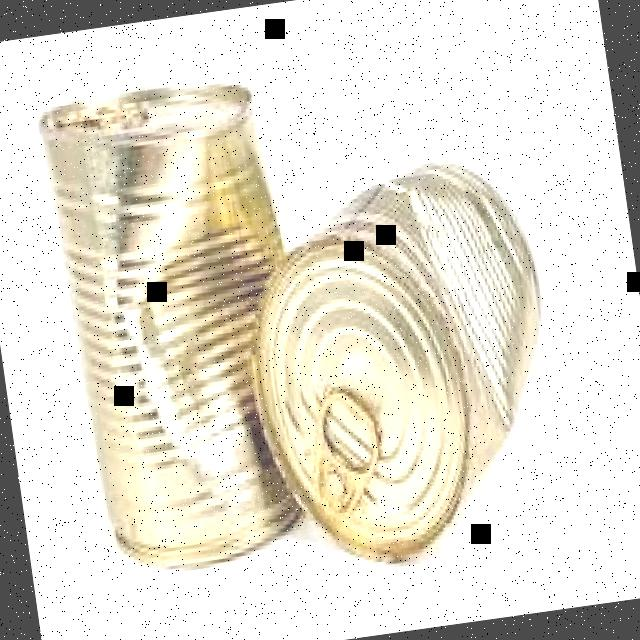can: (228, 142, 586, 588), (30, 70, 331, 585)
